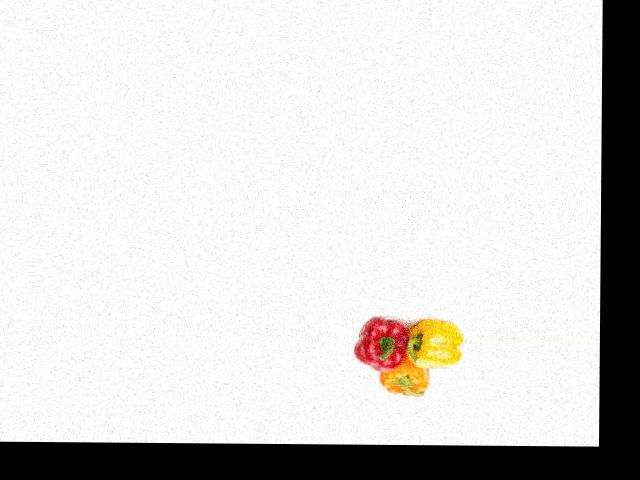bell_pepper: (409, 314, 463, 370)
